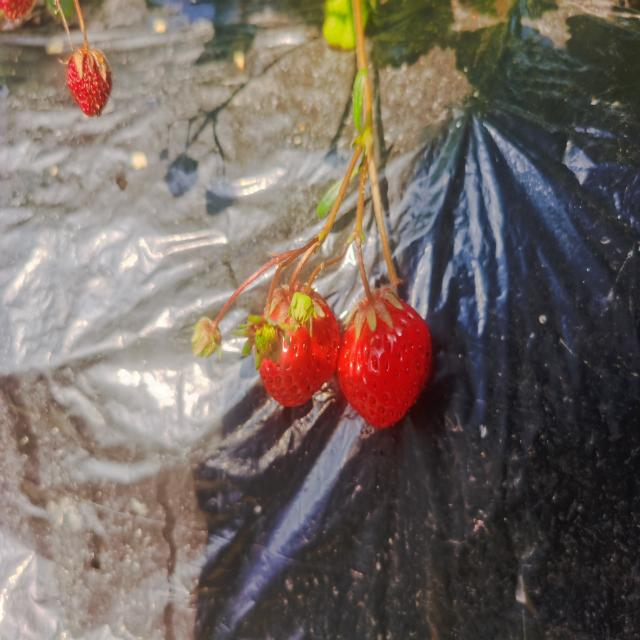stem: (289, 252, 311, 301), (357, 254, 375, 308), (78, 9, 89, 53)
strawberry: (337, 287, 434, 428), (259, 284, 340, 406), (66, 49, 112, 117)
